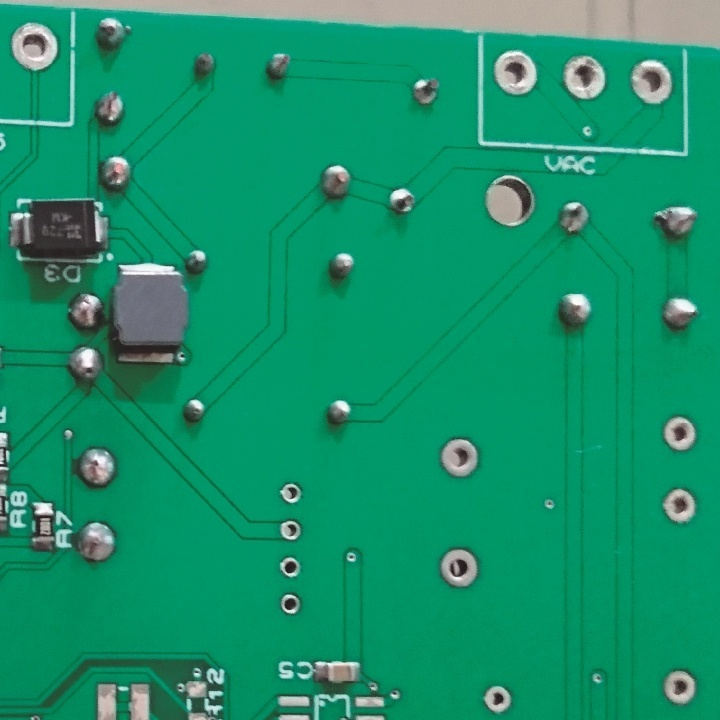F: (9, 21, 65, 73), (627, 57, 676, 112), (490, 47, 539, 101), (561, 51, 609, 103), (436, 545, 482, 589), (439, 435, 480, 481), (659, 664, 699, 708), (659, 488, 699, 529), (660, 415, 701, 454), (477, 680, 515, 716), (276, 476, 305, 508), (276, 553, 305, 583), (276, 517, 305, 545), (276, 591, 304, 618)
